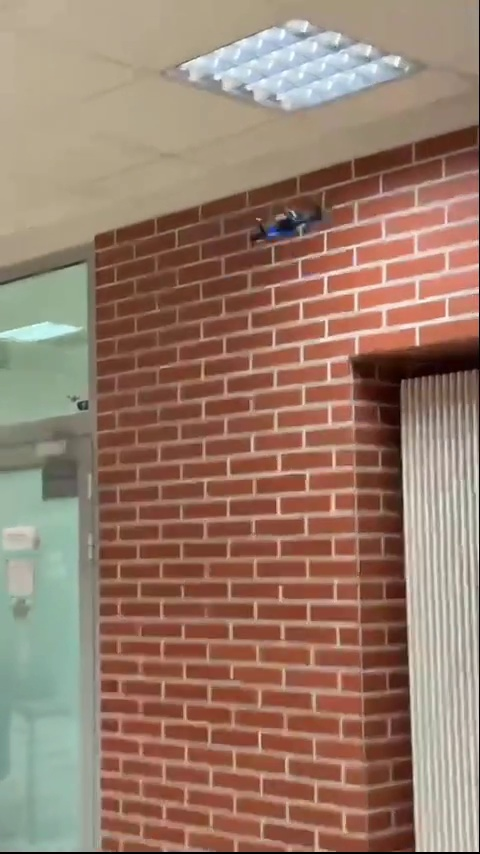drone: (245, 200, 331, 247)
